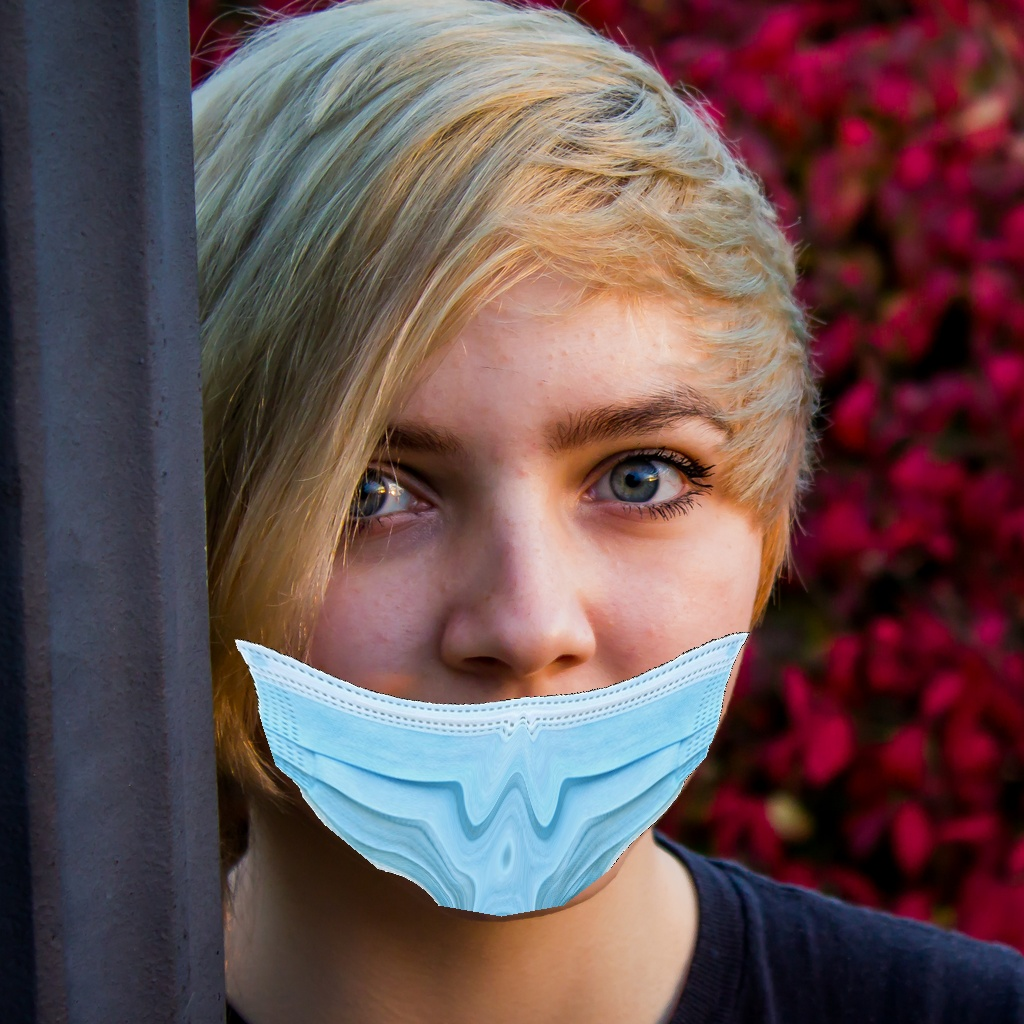mask_weared_incorrect: (249, 383, 771, 922)
